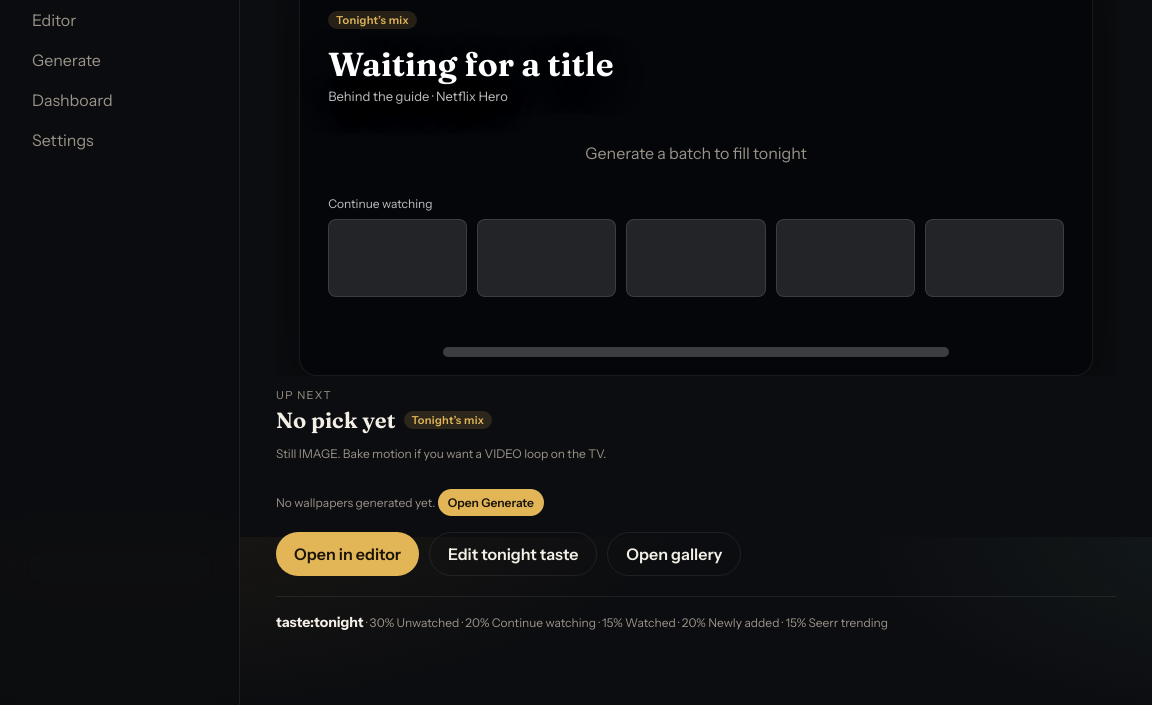
Test: Tonight page › links to the gallery from tonight
The width and height of the screenshot is (1152, 705).
(page scrolled)
Click the button "Open gallery": (674, 554) 607,532 -> 741,576
(page scrolled)
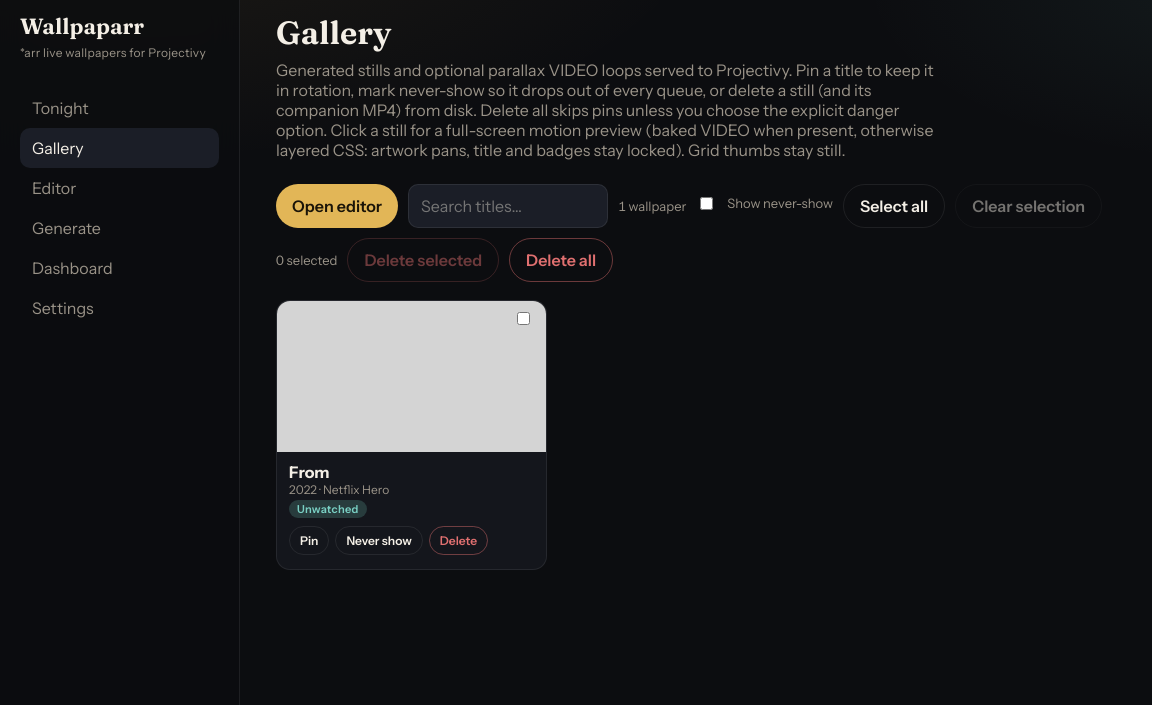
Now the heading "Gallery" is shown, box 276,13 -> 392,52
